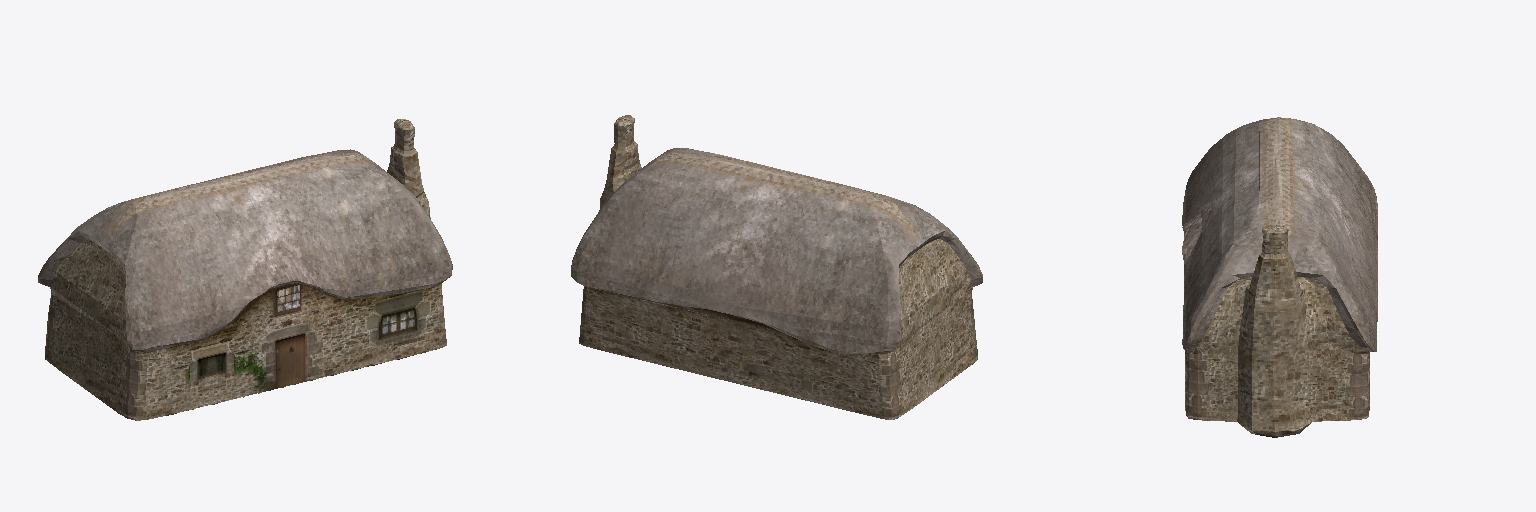
The picture shows the model from 3 angles: view 1: azimuth 30°, elevation 25°; view 2: azimuth 150°, elevation 25°; view 3: azimuth 270°, elevation 25°; orthographic projection.
Parts seen in each view (by area): view 1: _; view 2: _; view 3: _.
Boxes of the visible parts, x1=… form: _: x1=38, y1=119, x2=452, y2=420; _: x1=571, y1=115, x2=982, y2=419; _: x1=1182, y1=117, x2=1377, y2=437.
Size of the model in its own units: 520 by 286 by 254.
Materials: 1 (1 with a texture image).